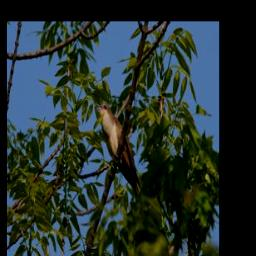Cuckoo: (96, 102, 143, 199)
